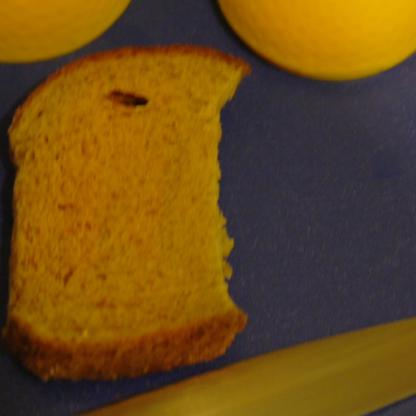knife: (0, 301, 415, 415)
